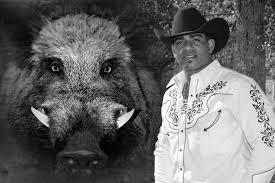person: (151, 5, 275, 183)
wildboar: (0, 0, 163, 183)
